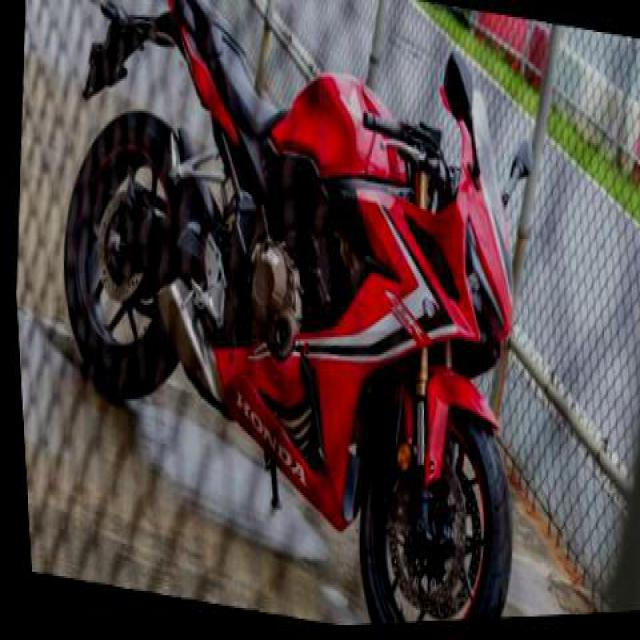CBR650R: (20, 0, 556, 638)
